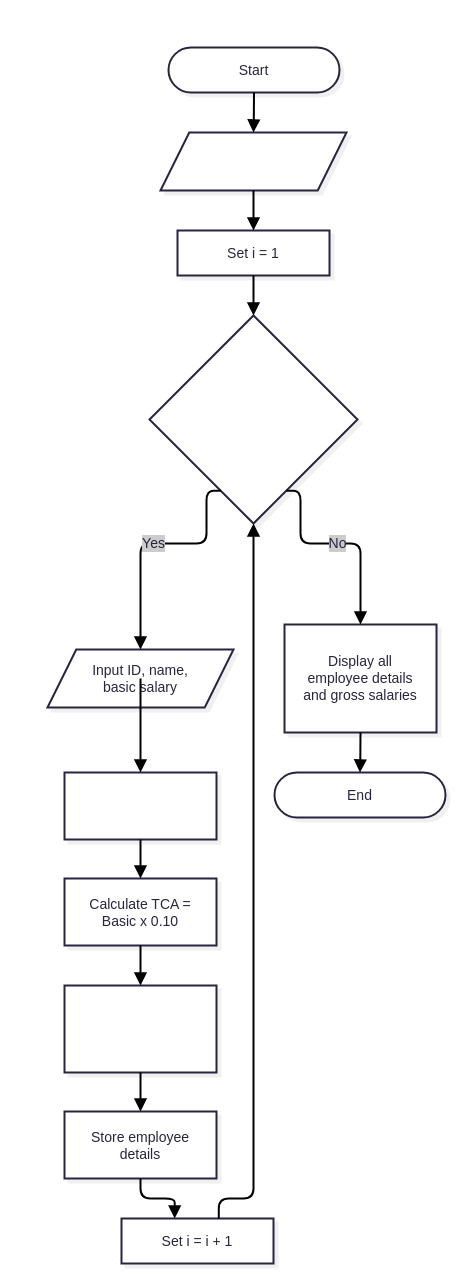
Image size: 467x1285. Some labels were removed from this diagram. Here are the shapes that lost their labels. From the top down, the centre of each, then its label:
(255,163): Input number of employees N
(255,421): i <= N?
(142,807): Calculate HRA = Basic x 0.20
(142,1030): Calculate gross = Basic + HRA + TCA
